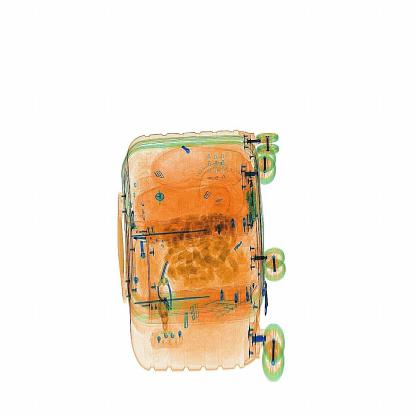pliers: (157, 253, 179, 293)
